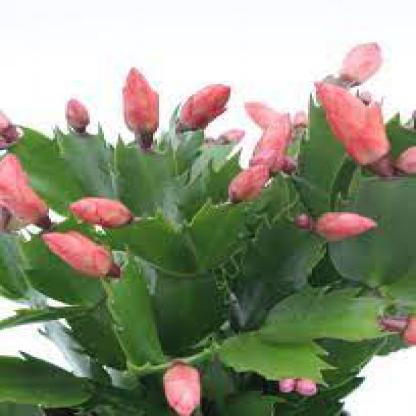Aglonema: (92, 47, 401, 388)
